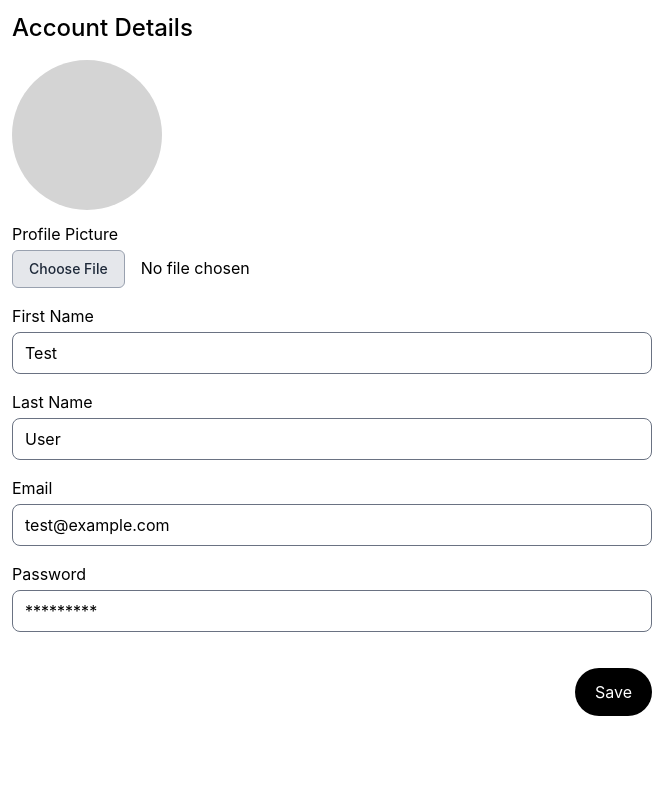
Test: shows the server error message when saving fails
This screenshot has width=669, height=799.
Click the button "Save" at (614, 692), box x1=575 y1=668 x2=652 y2=716
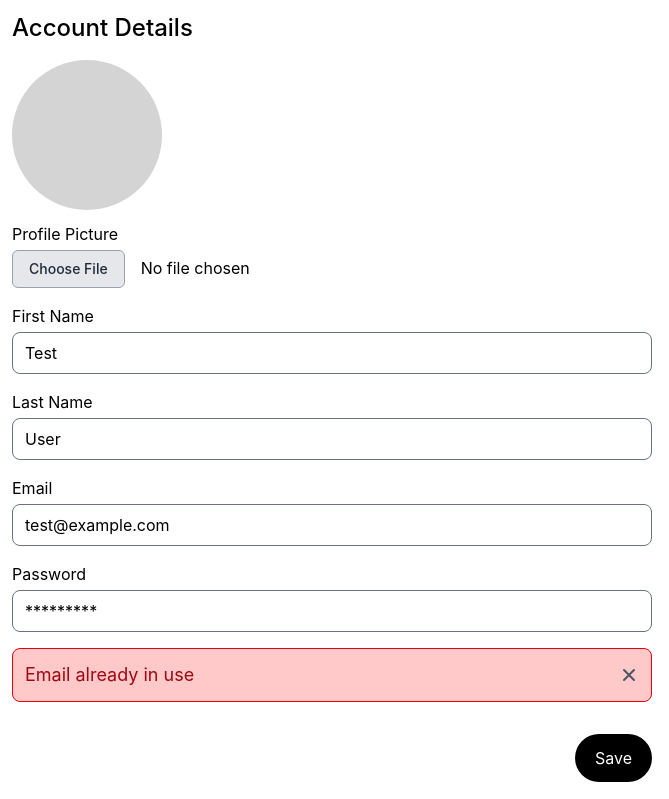
Result: the message reads "Email already in use" at x1=25 y1=664 x2=194 y2=685
